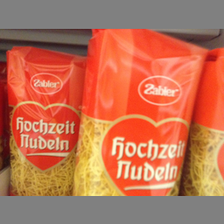pasta: (74, 29, 207, 195), (6, 45, 85, 195)
